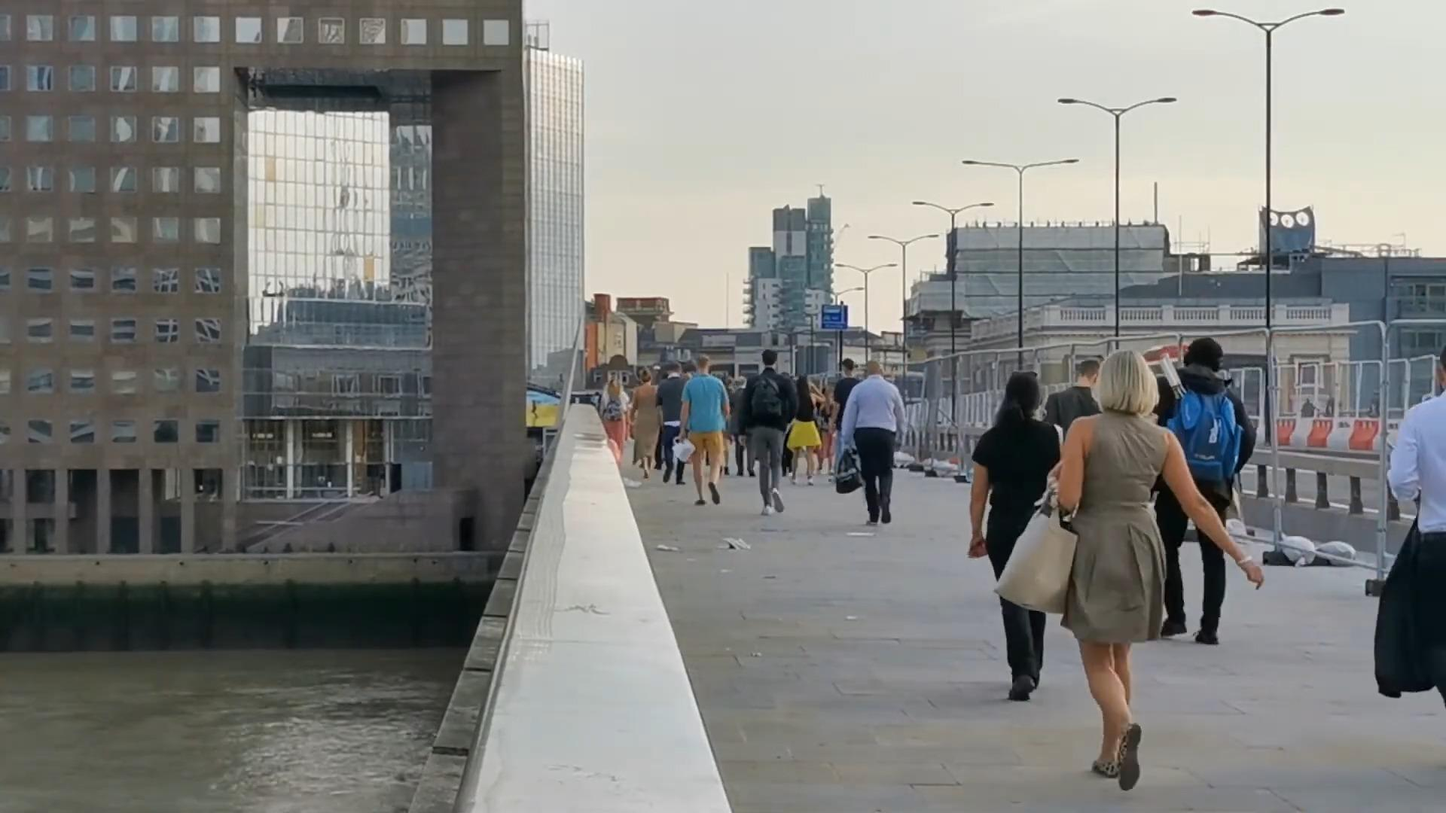no-helmet: (1092, 350, 1160, 418), (994, 370, 1042, 437), (1184, 338, 1223, 372), (1074, 359, 1099, 387), (761, 349, 778, 370), (696, 354, 710, 374), (639, 366, 652, 385)
